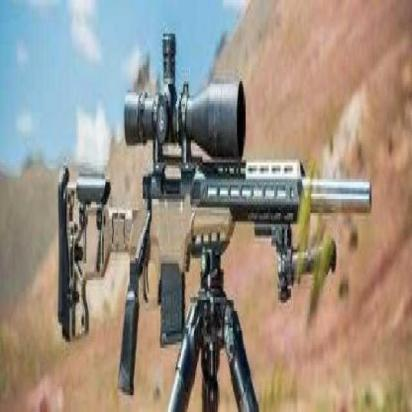Gun: (58, 84, 372, 339)
